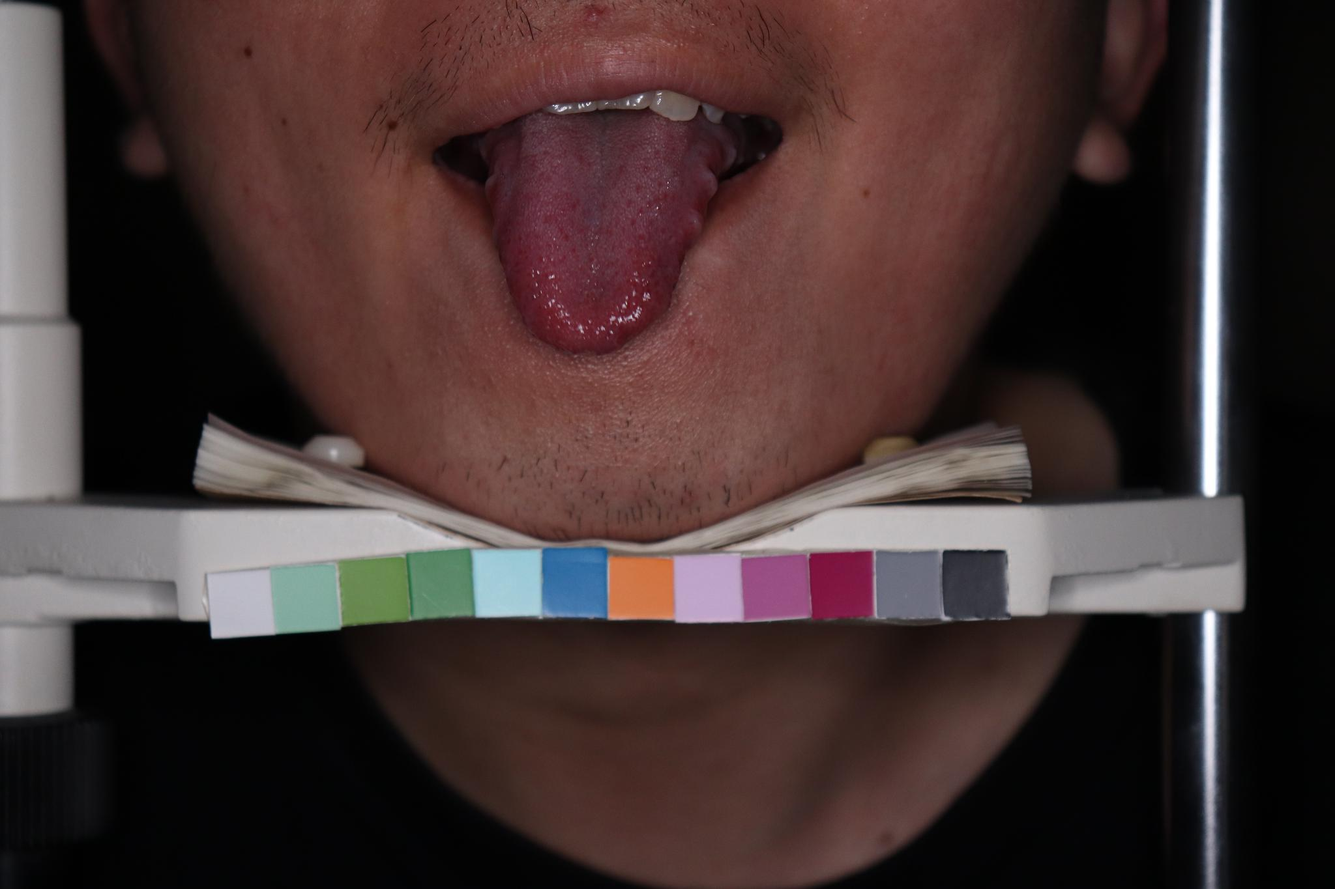baitaishe: (478, 102, 744, 354)
hongdianshe: (636, 206, 645, 219), (641, 164, 650, 174), (537, 254, 545, 264), (563, 233, 569, 243), (570, 246, 576, 255)
hongshe: (478, 102, 744, 354)
